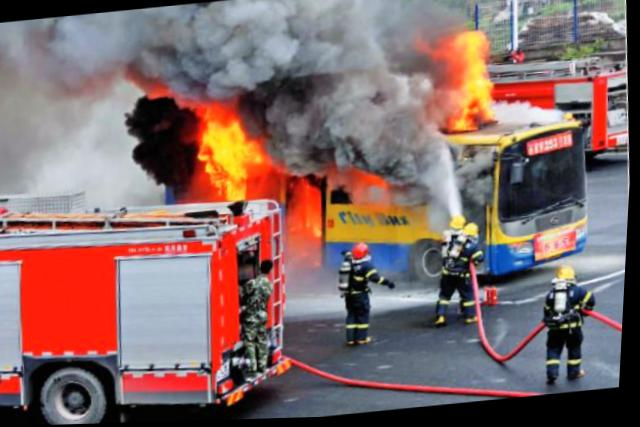fire: (415, 25, 510, 142), (183, 94, 263, 203)
